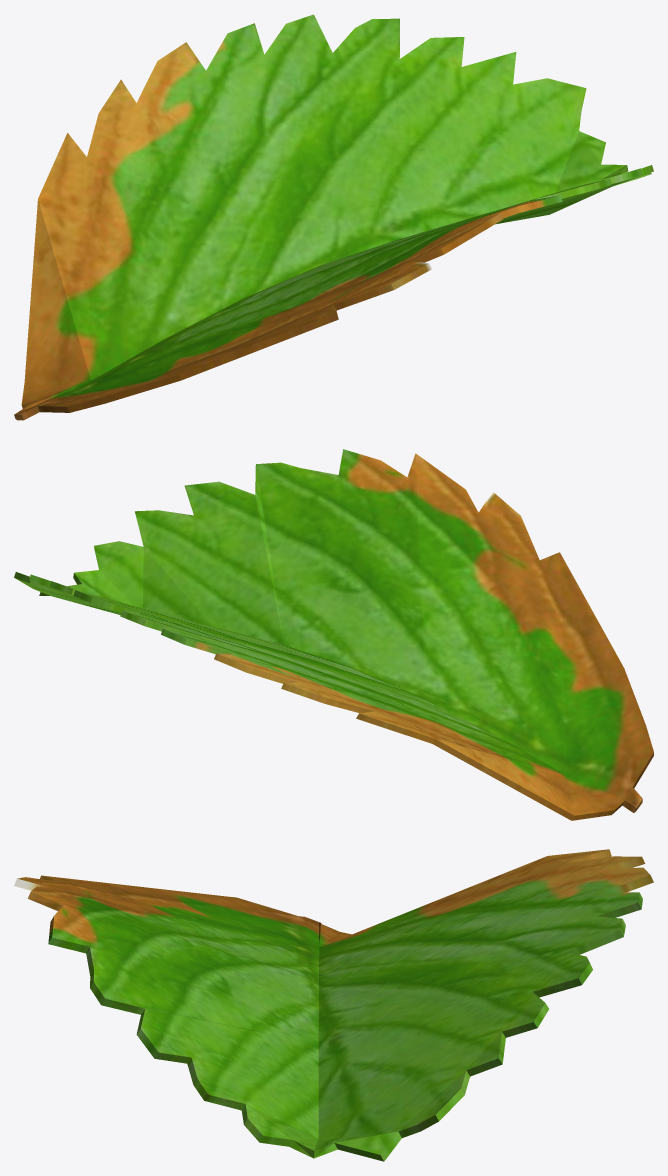
The model's file is leaf1_s1.dae.
The picture shows the model from 3 angles, top to bottom: view 1: azimuth 30°, elevation 25°; view 2: azimuth 150°, elevation 25°; view 3: azimuth 270°, elevation 25°; orthographic projection. The views are drawn at different scales.
Visible parts, largest first — view 1: Plane; view 2: Plane; view 3: Plane.
Part boxes in pixels (x1,y1,x2,y2): Plane: (14, 14, 653, 420); Plane: (14, 449, 653, 820); Plane: (14, 849, 653, 1161).
Bounding box in the file's own units: 0.1327 × 0.101 × 0.0426.
1 material, 1 textured.
